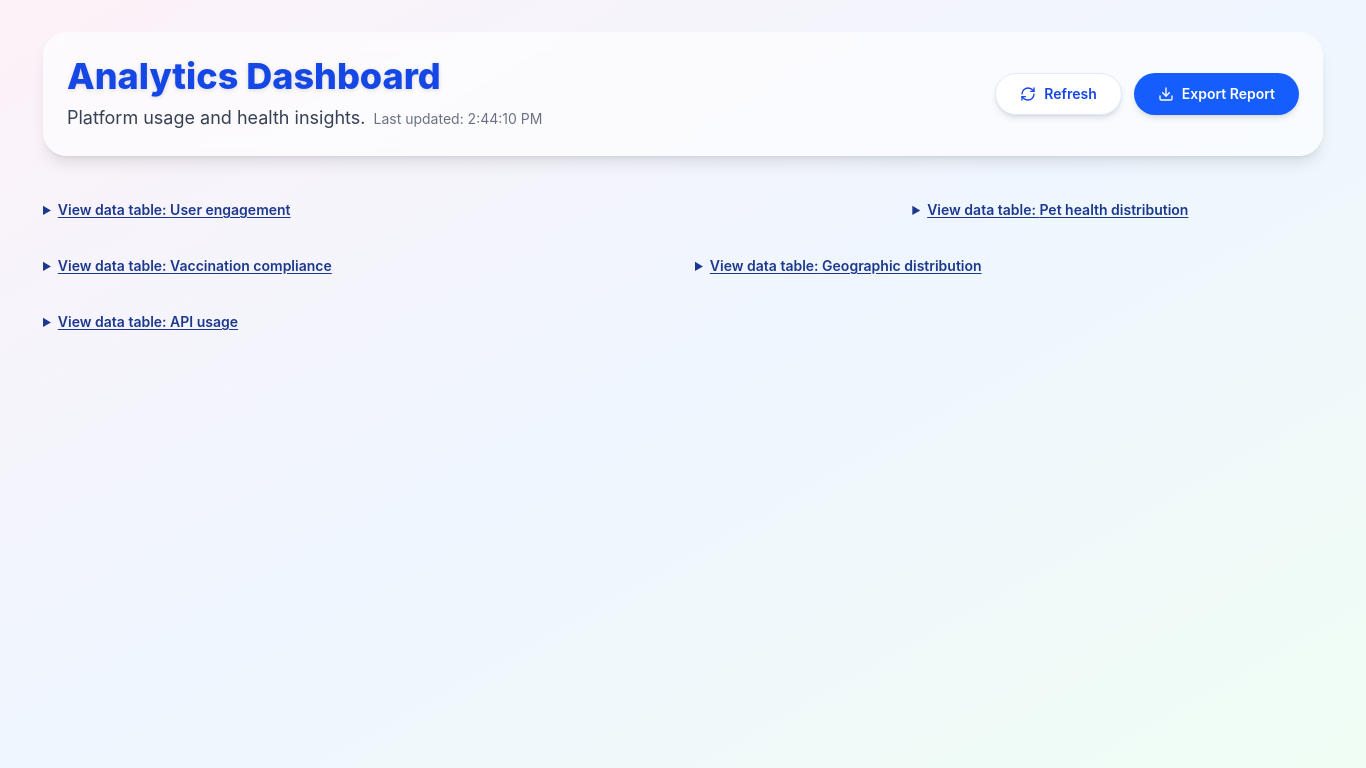
Scenario: AnalyticsPage accessibility › opens a privacy-aware export preview instead of downloading immediately
Expected: the heading "View data table: User engagement" is shown, [43,200,290,220]
Click the button "Export Report". click: (1216, 94)
box: [1134,73,1299,115]
(page scrolled)
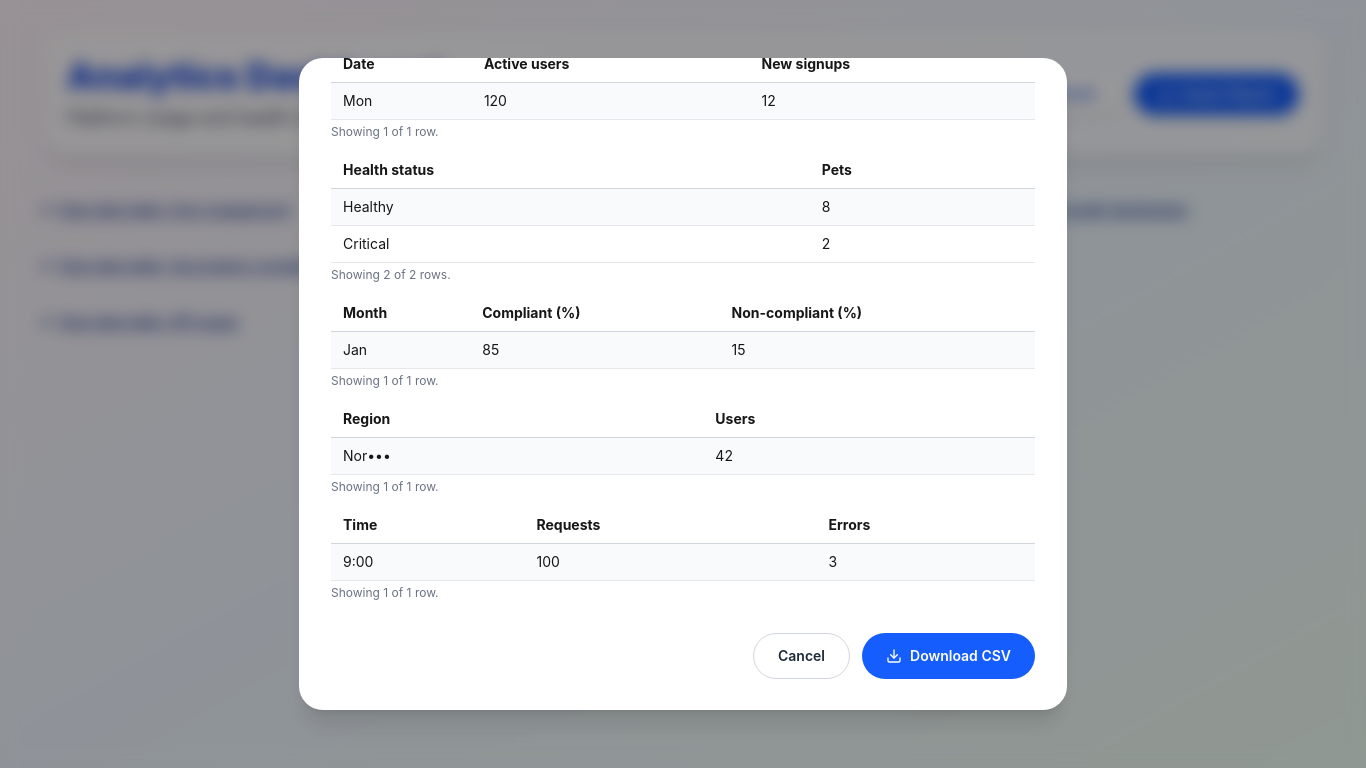
Now the dialog "Export preview" is shown, box [299,58,1067,710]
Now the text "Nor•••" is shown, box [331,438,703,474]
Now the button "Download CSV" is enabled, box [862,633,1035,679]
